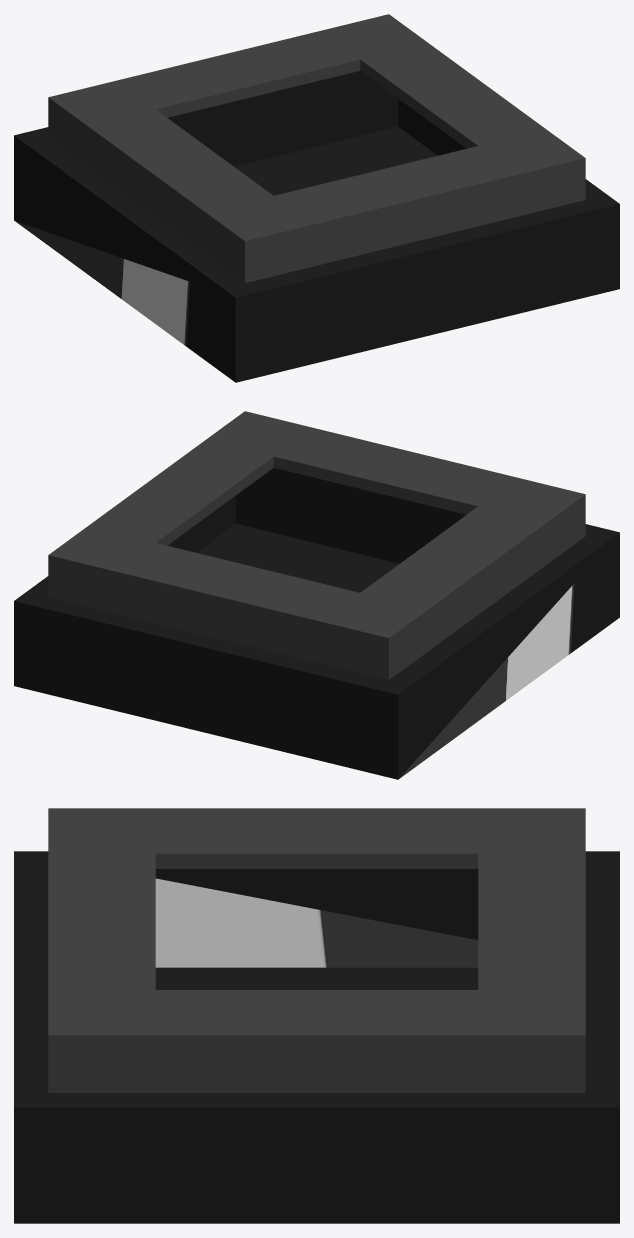
Rendered from lightBase.obj.
3 views of the same model, one above another, from view 1: azimuth 30°, elevation 25°; view 2: azimuth 150°, elevation 25°; view 3: azimuth 270°, elevation 25° (orthographic). The views are drawn at different scales.
Parts seen in each view (by area): view 1: poplight; view 2: poplight; view 3: poplight.
Part boxes in pixels (x1,y1,x2,y2): poplight: (14,14,619,382); poplight: (14,411,619,779); poplight: (14,808,619,1223).
Bounding box in the file's own units: 0.8063 × 0.2549 × 0.8063.
